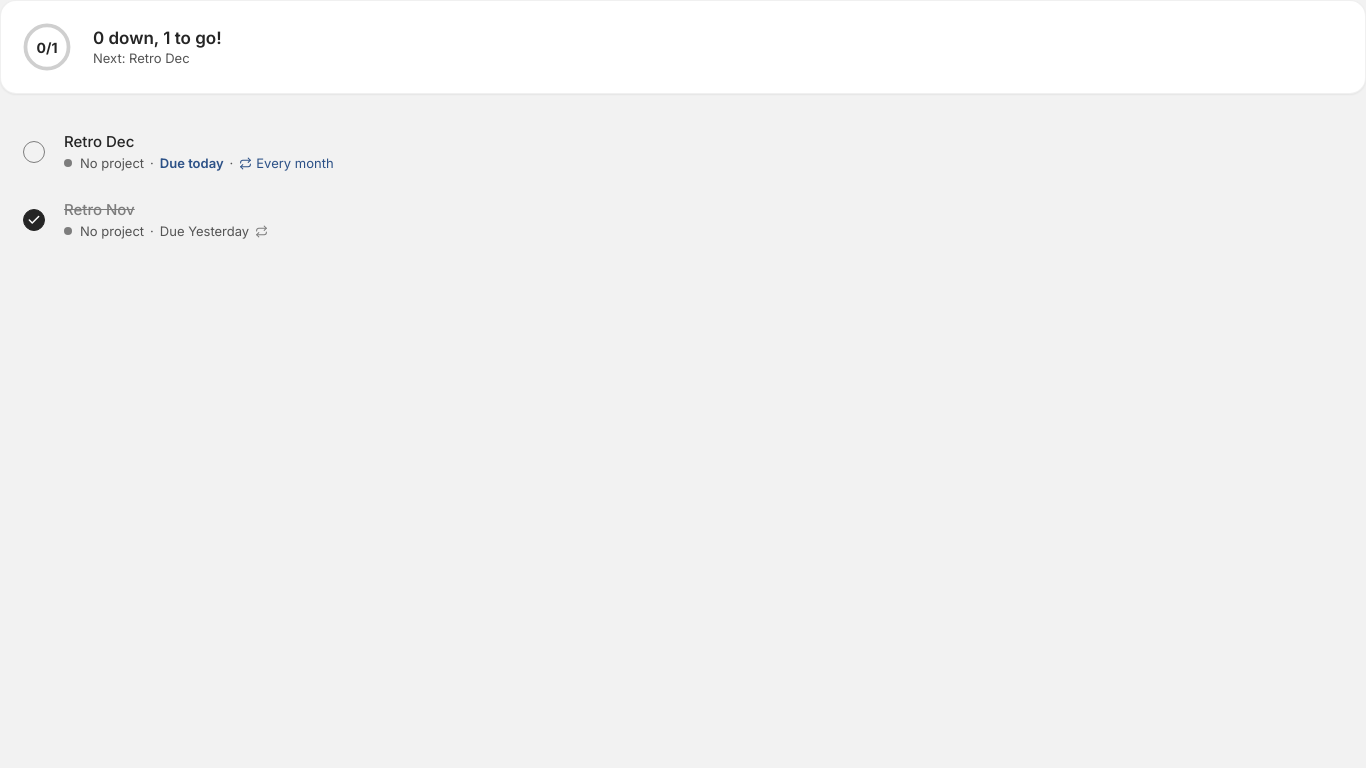
it: Complete a task (TK-1, WF-06) › #168: elsewhere (Inbox, Upcoming) unticking a repeat has no motion, only its toast
The image size is (1366, 768).
Click the checkbox named "Reopen Retro Nov": (34, 220) [12,198,56,242]
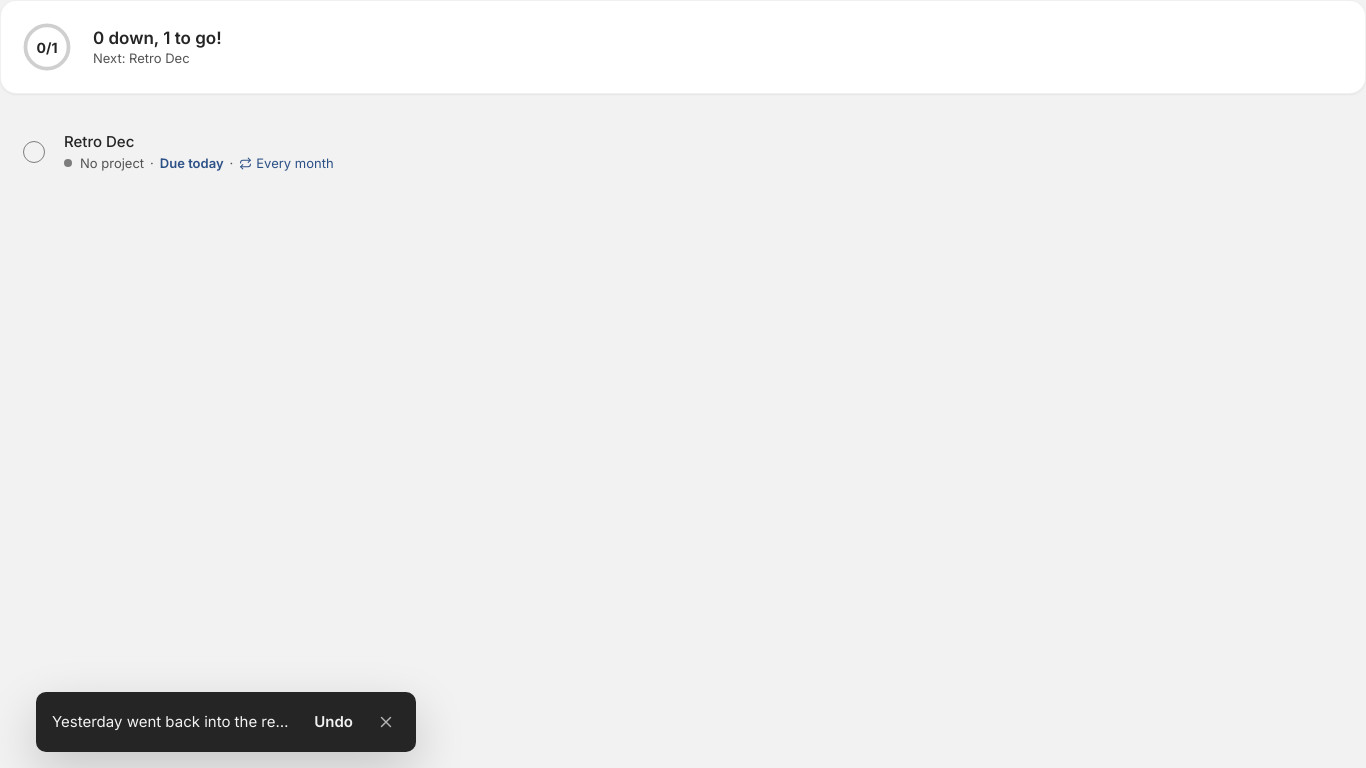
Check: the link "Retro Nov" is gone
Check: the text "Yesterday went back into the repeat" is shown, box [52,712,290,732]
